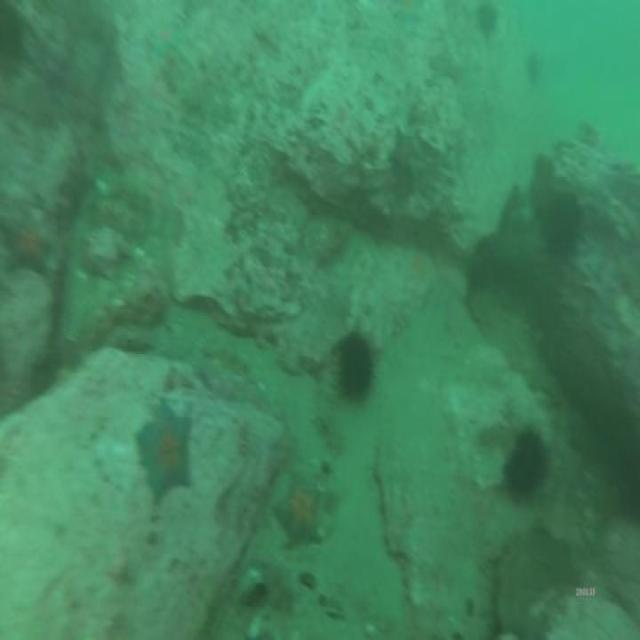echinus: (509, 432, 544, 499), (339, 335, 374, 400), (544, 196, 578, 253), (479, 2, 498, 30)
starfish: (138, 403, 193, 501), (276, 482, 320, 550), (7, 218, 52, 272)
